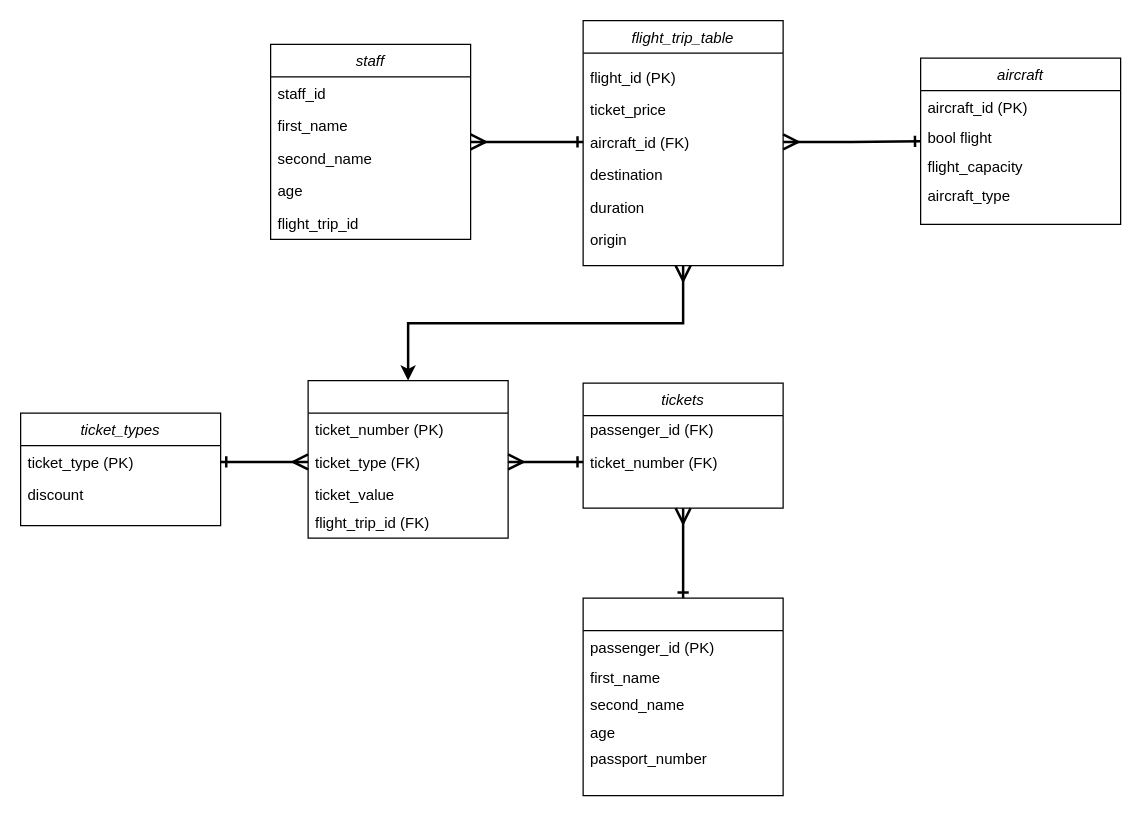
This 1141x816 diagram has some shape labels left out. Here are the shapes that lost their labels. From the top down, the box of each, then its label:
(307, 379, 508, 538): flight_order
(582, 597, 783, 796): passengers
